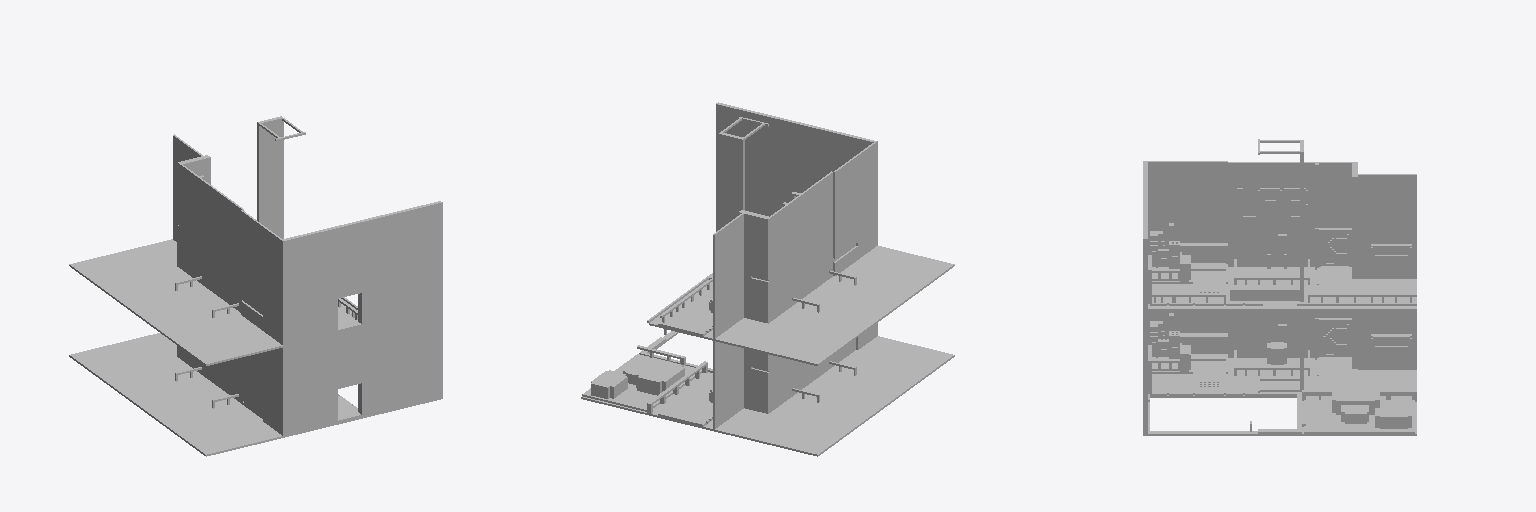
File: Sci-Fi Level 6.obj
3 renders of one model, left to right at view 1: azimuth 30°, elevation 25°; view 2: azimuth 150°, elevation 25°; view 3: azimuth 270°, elevation 25°, orthographic.
Visible parts, largest first — view 1: object 1; view 2: object 1; view 3: object 1.
Boxes of the visible parts, box(x1,y1,x2,y2) form: object 1: box(69, 116, 442, 456); object 1: box(581, 102, 954, 456); object 1: box(1143, 139, 1416, 435).
Size of the model in its own units: 12.6 by 12.4 by 12.6.